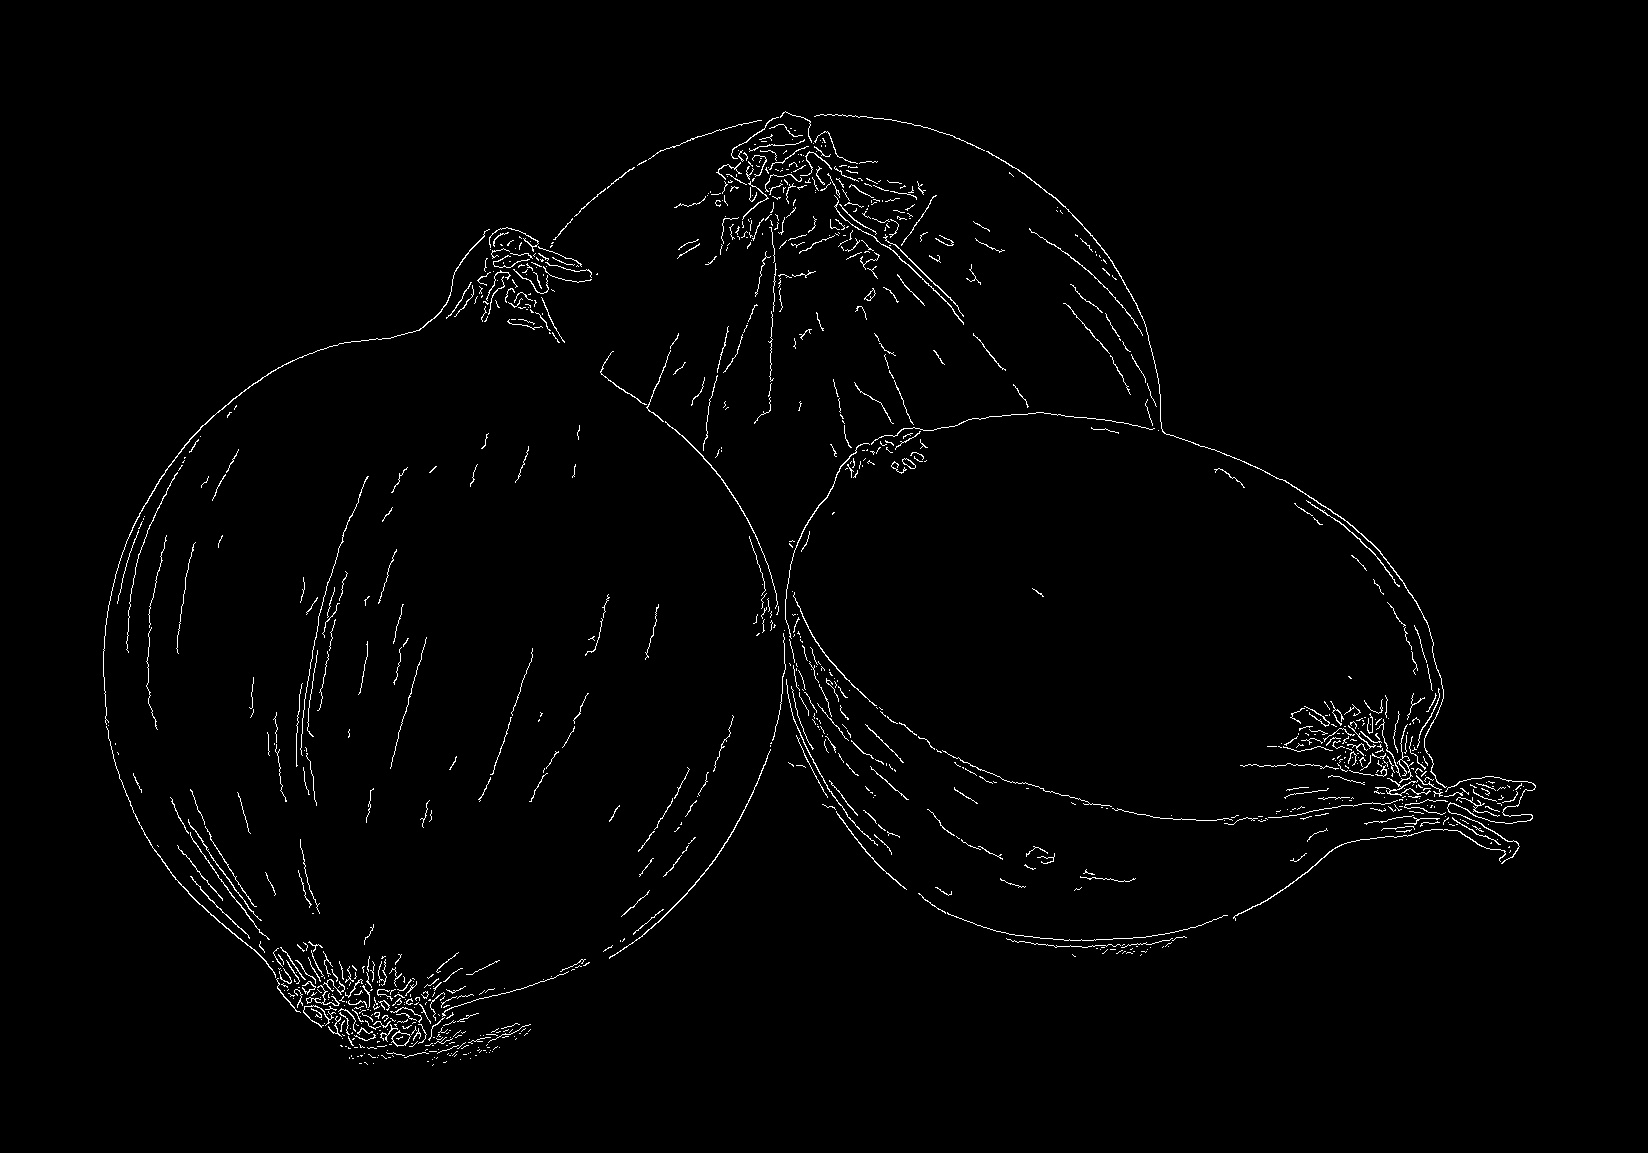onion: (64, 239, 783, 1069), (794, 383, 1564, 946), (512, 76, 1186, 449)
